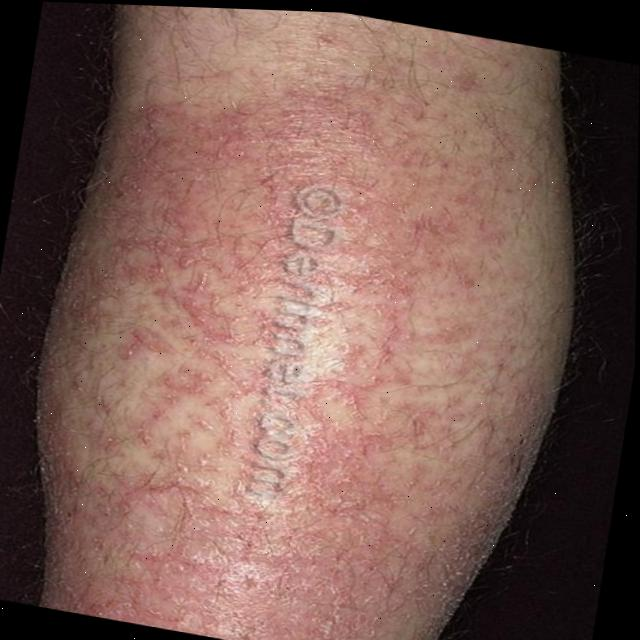Eczema: (69, 79, 523, 640)
